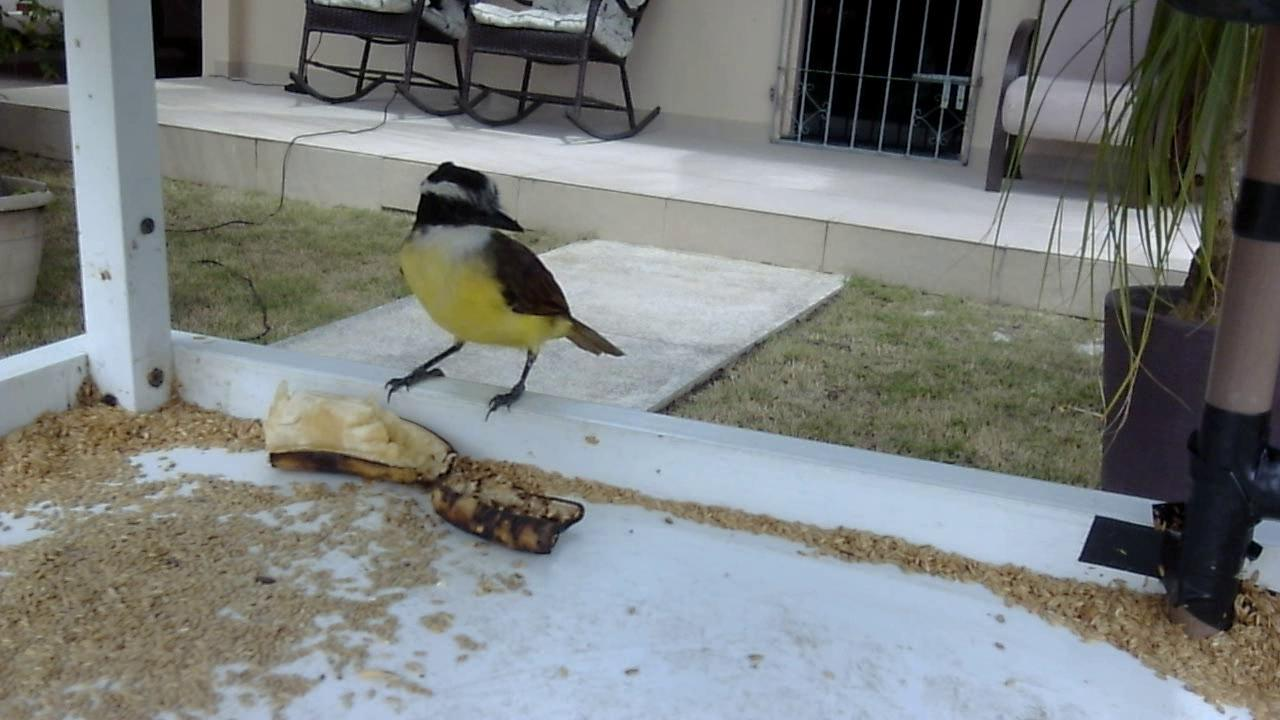bem_te_vi: (370, 157, 627, 430)
